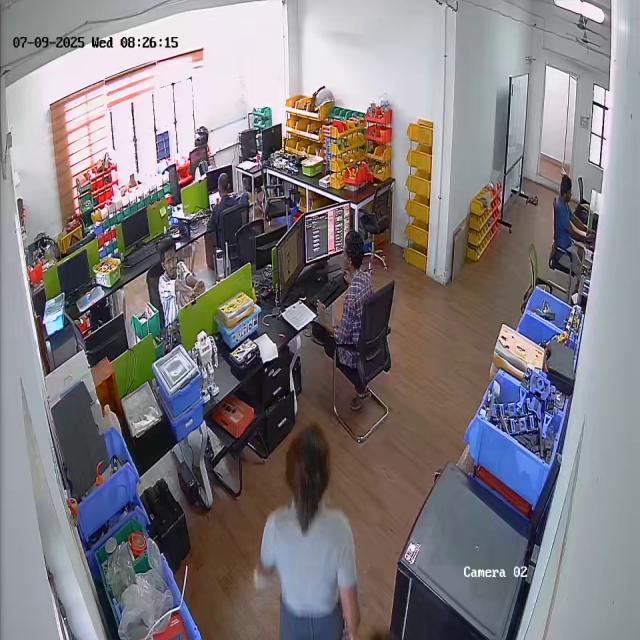person: (246, 421, 364, 640), (317, 229, 374, 357), (154, 236, 194, 317), (554, 174, 583, 260), (207, 172, 234, 234)
